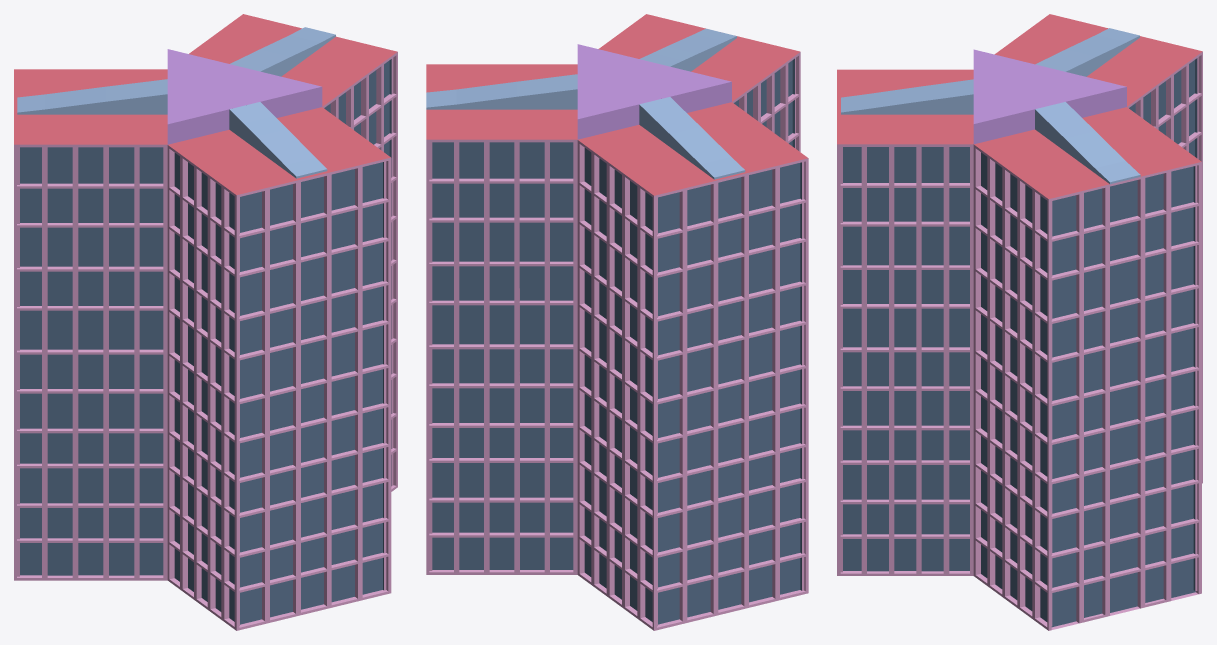
Rendered from hUCHHAUS 2.fbx.
The picture shows the model from 3 angles, left to right: view 1: azimuth 30°, elevation 25°; view 2: azimuth 150°, elevation 25°; view 3: azimuth 270°, elevation 25°; orthographic projection.
Visible parts, largest first — view 1: Zylinder.001, Zylinder, Zylinder.002, Zylinder.004, Zylinder.003; view 2: Zylinder.001, Zylinder, Zylinder.002, Zylinder.004, Zylinder.003; view 3: Zylinder.001, Zylinder, Zylinder.002, Zylinder.004, Zylinder.003.
Part boxes in pixels (box(x1,y1,x2,y2)): Zylinder.001: box(20, 59, 391, 624); Zylinder: box(14, 52, 397, 630); Zylinder.002: box(14, 14, 397, 195); Zylinder.004: box(17, 27, 335, 178); Zylinder.003: box(167, 49, 322, 144); Zylinder.001: box(432, 58, 801, 624); Zylinder: box(426, 52, 808, 630); Zylinder.002: box(426, 14, 808, 195); Zylinder.004: box(426, 28, 745, 179); Zylinder.003: box(577, 44, 731, 139); Zylinder.001: box(843, 58, 1197, 627); Zylinder: box(837, 51, 1202, 630); Zylinder.002: box(837, 14, 1202, 198); Zylinder.004: box(841, 28, 1140, 184); Zylinder.003: box(973, 49, 1126, 144).
Bounding box in the file's own units: 429 × 488 × 358.
